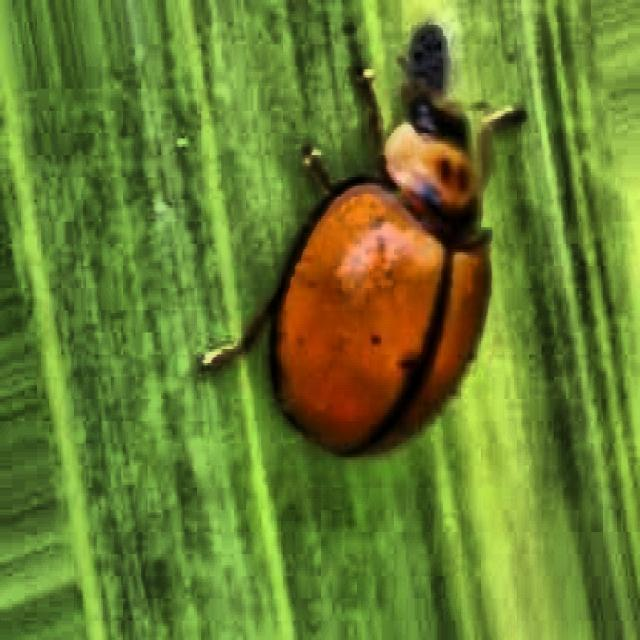Ladybug: (197, 8, 549, 500)
